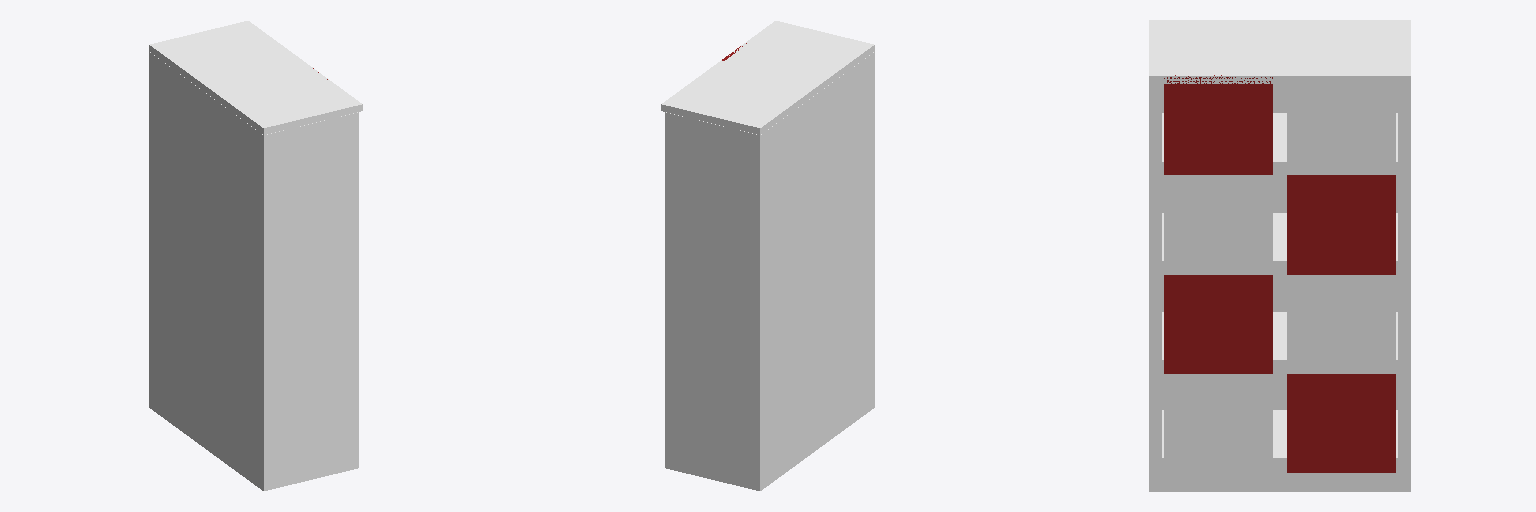
robot.urdf — multibox-shelf:
<?xml version="1.0"?>
<robot name="multibox-shelf"
       xmlns:xi="http://www.w3.org/2001/XInclude"
       xmlns:gazebo="http://playerstage.sourceforge.net/gazebo/xmlschema/#gz"
       xmlns:model="http://playerstage.sourceforge.net/gazebo/xmlschema/#model"
       xmlns:sensor="http://playerstage.sourceforge.net/gazebo/xmlschema/#sensor"
       xmlns:body="http://playerstage.sourceforge.net/gazebo/xmlschema/#body"
       xmlns:geom="http://playerstage.sourceforge.net/gazebo/xmlschema/#geom"
       xmlns:joint="http://playerstage.sourceforge.net/gazebo/xmlschema/#joint"
       xmlns:interface="http://playerstage.sourceforge.net/gazebo/xmlschema/#interface"
       xmlns:rendering="http://playerstage.sourceforge.net/gazebo/xmlschema/#rendering"
       xmlns:renderable="http://playerstage.sourceforge.net/gazebo/xmlschema/#renderable"
       xmlns:controller="http://playerstage.sourceforge.net/gazebo/xmlschema/#controller"
       xmlns:physics="http://playerstage.sourceforge.net/gazebo/xmlschema/#physics">
  <gazebo>
    <static>false</static>
  </gazebo>
  <link name="ROOT_link">
    <visual>
      <origin xyz="0 0 0" rpy="0 -0 0"/>
      <geometry>
        <mesh filename="model://multibox-shelf/meshes/ROOT_link_mesh.dae" scale="1 1 1" />
      </geometry>
    </visual>
    <collision>
      <origin xyz="0 0 0" rpy="0 -0 0"/>
      <geometry>
        <mesh filename="model://multibox-shelf/meshes/ROOT_link_mesh.dae" scale="1 1 1" />
      </geometry>
    </collision>
    <inertial>
      <mass value="0.001" />
      <origin xyz="0 0 0" rpy="0 -0 0"/>
      <inertia ixx="1e-09" ixy="0" ixz="0" iyy="1e-09" iyz="0" izz="1e-09"/>
    </inertial>
  </link>
  <gazebo reference="ROOT_link">
    <mu1>0.9</mu1>
    <mu2>0.9</mu2>
  </gazebo>
  <link name="MULTIBOX-SHELF-BODYSET9_link">
    <visual>
      <origin xyz="0 -0.14 0.17" rpy="0 -0 0"/>
      <geometry>
        <mesh filename="model://multibox-shelf/meshes/MULTIBOX-SHELF-BODYSET9_link_mesh.dae" scale="1 1 1" />
      </geometry>
    </visual>
    <collision>
      <origin xyz="0 -0.14 0.17" rpy="0 -0 0"/>
      <geometry>
        <mesh filename="model://multibox-shelf/meshes/MULTIBOX-SHELF-BODYSET9_link_mesh.dae" scale="1 1 1" />
      </geometry>
    </collision>
    <inertial>
      <mass value="0.001" />
      <origin xyz="0 0 0" rpy="0 -0 0"/>
      <inertia ixx="1e-09" ixy="0" ixz="0" iyy="1e-09" iyz="0" izz="1e-09"/>
    </inertial>
  </link>
  <gazebo reference="MULTIBOX-SHELF-BODYSET9_link">
    <mu1>0.9</mu1>
    <mu2>0.9</mu2>
  </gazebo>
  <link name="MULTIBOX-SHELF-BODYSET8_link">
    <visual>
      <origin xyz="0 -0.14 0.42" rpy="0 -0 0"/>
      <geometry>
        <mesh filename="model://multibox-shelf/meshes/MULTIBOX-SHELF-BODYSET8_link_mesh.dae" scale="1 1 1" />
      </geometry>
    </visual>
    <collision>
      <origin xyz="0 -0.14 0.42" rpy="0 -0 0"/>
      <geometry>
        <mesh filename="model://multibox-shelf/meshes/MULTIBOX-SHELF-BODYSET8_link_mesh.dae" scale="1 1 1" />
      </geometry>
    </collision>
    <inertial>
      <mass value="0.001" />
      <origin xyz="0 0 0" rpy="0 -0 0"/>
      <inertia ixx="1e-09" ixy="0" ixz="0" iyy="1e-09" iyz="0" izz="1e-09"/>
    </inertial>
  </link>
  <gazebo reference="MULTIBOX-SHELF-BODYSET8_link">
    <mu1>0.9</mu1>
    <mu2>0.9</mu2>
  </gazebo>
  <link name="MULTIBOX-SHELF-BODYSET7_link">
    <visual>
      <origin xyz="0 -0.14 0.67" rpy="0 -0 0"/>
      <geometry>
        <mesh filename="model://multibox-shelf/meshes/MULTIBOX-SHELF-BODYSET7_link_mesh.dae" scale="1 1 1" />
      </geometry>
    </visual>
    <collision>
      <origin xyz="0 -0.14 0.67" rpy="0 -0 0"/>
      <geometry>
        <mesh filename="model://multibox-shelf/meshes/MULTIBOX-SHELF-BODYSET7_link_mesh.dae" scale="1 1 1" />
      </geometry>
    </collision>
    <inertial>
      <mass value="0.001" />
      <origin xyz="0 0 0" rpy="0 -0 0"/>
      <inertia ixx="1e-09" ixy="0" ixz="0" iyy="1e-09" iyz="0" izz="1e-09"/>
    </inertial>
  </link>
  <gazebo reference="MULTIBOX-SHELF-BODYSET7_link">
    <mu1>0.9</mu1>
    <mu2>0.9</mu2>
  </gazebo>
  <link name="MULTIBOX-SHELF-BODYSET6_link">
    <visual>
      <origin xyz="0 -0.14 0.92" rpy="0 -0 0"/>
      <geometry>
        <mesh filename="model://multibox-shelf/meshes/MULTIBOX-SHELF-BODYSET6_link_mesh.dae" scale="1 1 1" />
      </geometry>
    </visual>
    <collision>
      <origin xyz="0 -0.14 0.92" rpy="0 -0 0"/>
      <geometry>
        <mesh filename="model://multibox-shelf/meshes/MULTIBOX-SHELF-BODYSET6_link_mesh.dae" scale="1 1 1" />
      </geometry>
    </collision>
    <inertial>
      <mass value="0.001" />
      <origin xyz="0 0 0" rpy="0 -0 0"/>
      <inertia ixx="1e-09" ixy="0" ixz="0" iyy="1e-09" iyz="0" izz="1e-09"/>
    </inertial>
  </link>
  <gazebo reference="MULTIBOX-SHELF-BODYSET6_link">
    <mu1>0.9</mu1>
    <mu2>0.9</mu2>
  </gazebo>
  <link name="MULTIBOX-SHELF-BODYSET5_link">
    <visual>
      <origin xyz="0 0.14 0.17" rpy="0 -0 0"/>
      <geometry>
        <mesh filename="model://multibox-shelf/meshes/MULTIBOX-SHELF-BODYSET5_link_mesh.dae" scale="1 1 1" />
      </geometry>
    </visual>
    <collision>
      <origin xyz="0 0.14 0.17" rpy="0 -0 0"/>
      <geometry>
        <mesh filename="model://multibox-shelf/meshes/MULTIBOX-SHELF-BODYSET5_link_mesh.dae" scale="1 1 1" />
      </geometry>
    </collision>
    <inertial>
      <mass value="0.001" />
      <origin xyz="0 0 0" rpy="0 -0 0"/>
      <inertia ixx="1e-09" ixy="0" ixz="0" iyy="1e-09" iyz="0" izz="1e-09"/>
    </inertial>
  </link>
  <gazebo reference="MULTIBOX-SHELF-BODYSET5_link">
    <mu1>0.9</mu1>
    <mu2>0.9</mu2>
  </gazebo>
  <link name="MULTIBOX-SHELF-BODYSET4_link">
    <visual>
      <origin xyz="0 0.14 0.42" rpy="0 -0 0"/>
      <geometry>
        <mesh filename="model://multibox-shelf/meshes/MULTIBOX-SHELF-BODYSET4_link_mesh.dae" scale="1 1 1" />
      </geometry>
    </visual>
    <collision>
      <origin xyz="0 0.14 0.42" rpy="0 -0 0"/>
      <geometry>
        <mesh filename="model://multibox-shelf/meshes/MULTIBOX-SHELF-BODYSET4_link_mesh.dae" scale="1 1 1" />
      </geometry>
    </collision>
    <inertial>
      <mass value="0.001" />
      <origin xyz="0 0 0" rpy="0 -0 0"/>
      <inertia ixx="1e-09" ixy="0" ixz="0" iyy="1e-09" iyz="0" izz="1e-09"/>
    </inertial>
  </link>
  <gazebo reference="MULTIBOX-SHELF-BODYSET4_link">
    <mu1>0.9</mu1>
    <mu2>0.9</mu2>
  </gazebo>
  <link name="MULTIBOX-SHELF-BODYSET3_link">
    <visual>
      <origin xyz="0 0.14 0.67" rpy="0 -0 0"/>
      <geometry>
        <mesh filename="model://multibox-shelf/meshes/MULTIBOX-SHELF-BODYSET3_link_mesh.dae" scale="1 1 1" />
      </geometry>
    </visual>
    <collision>
      <origin xyz="0 0.14 0.67" rpy="0 -0 0"/>
      <geometry>
        <mesh filename="model://multibox-shelf/meshes/MULTIBOX-SHELF-BODYSET3_link_mesh.dae" scale="1 1 1" />
      </geometry>
    </collision>
    <inertial>
      <mass value="0.001" />
      <origin xyz="0 0 0" rpy="0 -0 0"/>
      <inertia ixx="1e-09" ixy="0" ixz="0" iyy="1e-09" iyz="0" izz="1e-09"/>
    </inertial>
  </link>
  <gazebo reference="MULTIBOX-SHELF-BODYSET3_link">
    <mu1>0.9</mu1>
    <mu2>0.9</mu2>
  </gazebo>
  <link name="MULTIBOX-SHELF-BODYSET2_link">
    <visual>
      <origin xyz="0 0.14 0.92" rpy="0 -0 0"/>
      <geometry>
        <mesh filename="model://multibox-shelf/meshes/MULTIBOX-SHELF-BODYSET2_link_mesh.dae" scale="1 1 1" />
      </geometry>
    </visual>
    <collision>
      <origin xyz="0 0.14 0.92" rpy="0 -0 0"/>
      <geometry>
        <mesh filename="model://multibox-shelf/meshes/MULTIBOX-SHELF-BODYSET2_link_mesh.dae" scale="1 1 1" />
      </geometry>
    </collision>
    <inertial>
      <mass value="0.001" />
      <origin xyz="0 0 0" rpy="0 -0 0"/>
      <inertia ixx="1e-09" ixy="0" ixz="0" iyy="1e-09" iyz="0" izz="1e-09"/>
    </inertial>
  </link>
  <gazebo reference="MULTIBOX-SHELF-BODYSET2_link">
    <mu1>0.9</mu1>
    <mu2>0.9</mu2>
  </gazebo>
  <joint name="DRAWER0" type="prismatic">
    <parent link="ROOT_link"/>
    <child  link="MULTIBOX-SHELF-BODYSET9_link"/>
    <origin xyz="0 -0.14 0.17" rpy="0 -0 0 "/>
    <axis   xyz="1 0 0"/>
    <limit lower="0" upper="0.3" effort="100" velocity="0.01" />
    <dynamics damping="0.2" friction="0" />
  </joint>
  <transmission type="pr2_mechanism_model/SimpleTransmission" name="DRAWER0_trans" >
    <actuator name="DRAWER0_motor" />
    <joint name="DRAWER0" />
    <mechanicalReduction>1</mechanicalReduction>
  </transmission>
  <gazebo reference="DRAWER0">
    <cfmDamping>0.4</cfmDamping>
  </gazebo>
  <joint name="DRAWER1" type="prismatic">
    <parent link="ROOT_link"/>
    <child  link="MULTIBOX-SHELF-BODYSET8_link"/>
    <origin xyz="0 -0.14 0.42" rpy="0 -0 0 "/>
    <axis   xyz="1 0 0"/>
    <limit lower="0" upper="0.3" effort="100" velocity="0.01" />
    <dynamics damping="0.2" friction="0" />
  </joint>
  <transmission type="pr2_mechanism_model/SimpleTransmission" name="DRAWER1_trans" >
    <actuator name="DRAWER1_motor" />
    <joint name="DRAWER1" />
    <mechanicalReduction>1</mechanicalReduction>
  </transmission>
  <gazebo reference="DRAWER1">
    <cfmDamping>0.4</cfmDamping>
  </gazebo>
  <joint name="DRAWER2" type="prismatic">
    <parent link="ROOT_link"/>
    <child  link="MULTIBOX-SHELF-BODYSET7_link"/>
    <origin xyz="0 -0.14 0.67" rpy="0 -0 0 "/>
    <axis   xyz="1 0 0"/>
    <limit lower="0" upper="0.3" effort="100" velocity="0.01" />
    <dynamics damping="0.2" friction="0" />
  </joint>
  <transmission type="pr2_mechanism_model/SimpleTransmission" name="DRAWER2_trans" >
    <actuator name="DRAWER2_motor" />
    <joint name="DRAWER2" />
    <mechanicalReduction>1</mechanicalReduction>
  </transmission>
  <gazebo reference="DRAWER2">
    <cfmDamping>0.4</cfmDamping>
  </gazebo>
  <joint name="DRAWER3" type="prismatic">
    <parent link="ROOT_link"/>
    <child  link="MULTIBOX-SHELF-BODYSET6_link"/>
    <origin xyz="0 -0.14 0.92" rpy="0 -0 0 "/>
    <axis   xyz="1 0 0"/>
    <limit lower="0" upper="0.3" effort="100" velocity="0.01" />
    <dynamics damping="0.2" friction="0" />
  </joint>
  <transmission type="pr2_mechanism_model/SimpleTransmission" name="DRAWER3_trans" >
    <actuator name="DRAWER3_motor" />
    <joint name="DRAWER3" />
    <mechanicalReduction>1</mechanicalReduction>
  </transmission>
  <gazebo reference="DRAWER3">
    <cfmDamping>0.4</cfmDamping>
  </gazebo>
  <joint name="DRAWER4" type="prismatic">
    <parent link="ROOT_link"/>
    <child  link="MULTIBOX-SHELF-BODYSET5_link"/>
    <origin xyz="0 0.14 0.17" rpy="0 -0 0 "/>
    <axis   xyz="1 0 0"/>
    <limit lower="0" upper="0.3" effort="100" velocity="0.01" />
    <dynamics damping="0.2" friction="0" />
  </joint>
  <transmission type="pr2_mechanism_model/SimpleTransmission" name="DRAWER4_trans" >
    <actuator name="DRAWER4_motor" />
    <joint name="DRAWER4" />
    <mechanicalReduction>1</mechanicalReduction>
  </transmission>
  <gazebo reference="DRAWER4">
    <cfmDamping>0.4</cfmDamping>
  </gazebo>
  <joint name="DRAWER5" type="prismatic">
    <parent link="ROOT_link"/>
    <child  link="MULTIBOX-SHELF-BODYSET4_link"/>
    <origin xyz="0 0.14 0.42" rpy="0 -0 0 "/>
    <axis   xyz="1 0 0"/>
    <limit lower="0" upper="0.3" effort="100" velocity="0.01" />
    <dynamics damping="0.2" friction="0" />
  </joint>
  <transmission type="pr2_mechanism_model/SimpleTransmission" name="DRAWER5_trans" >
    <actuator name="DRAWER5_motor" />
    <joint name="DRAWER5" />
    <mechanicalReduction>1</mechanicalReduction>
  </transmission>
  <gazebo reference="DRAWER5">
    <cfmDamping>0.4</cfmDamping>
  </gazebo>
  <joint name="DRAWER6" type="prismatic">
    <parent link="ROOT_link"/>
    <child  link="MULTIBOX-SHELF-BODYSET3_link"/>
    <origin xyz="0 0.14 0.67" rpy="0 -0 0 "/>
    <axis   xyz="1 0 0"/>
    <limit lower="0" upper="0.3" effort="100" velocity="0.01" />
    <dynamics damping="0.2" friction="0" />
  </joint>
  <transmission type="pr2_mechanism_model/SimpleTransmission" name="DRAWER6_trans" >
    <actuator name="DRAWER6_motor" />
    <joint name="DRAWER6" />
    <mechanicalReduction>1</mechanicalReduction>
  </transmission>
  <gazebo reference="DRAWER6">
    <cfmDamping>0.4</cfmDamping>
  </gazebo>
  <joint name="DRAWER7" type="prismatic">
    <parent link="ROOT_link"/>
    <child  link="MULTIBOX-SHELF-BODYSET2_link"/>
    <origin xyz="0 0.14 0.92" rpy="0 -0 0 "/>
    <axis   xyz="1 0 0"/>
    <limit lower="0" upper="0.3" effort="100" velocity="0.01" />
    <dynamics damping="0.2" friction="0" />
  </joint>
  <transmission type="pr2_mechanism_model/SimpleTransmission" name="DRAWER7_trans" >
    <actuator name="DRAWER7_motor" />
    <joint name="DRAWER7" />
    <mechanicalReduction>1</mechanicalReduction>
  </transmission>
  <gazebo reference="DRAWER7">
    <cfmDamping>0.4</cfmDamping>
  </gazebo>
</robot>

--- Render facts (derived) ---
The picture shows the robot from 3 angles, left to right: view 1: azimuth 30°, elevation 25°; view 2: azimuth 150°, elevation 25°; view 3: azimuth 270°, elevation 25°; orthographic projection.
Model multibox-shelf with 9 links and 8 joints (8 prismatic), rooted at ROOT_link, posed every joint at zero.
Links seen in each view (by area): view 1: ROOT_link; view 2: ROOT_link; view 3: ROOT_link, MULTIBOX-SHELF-BODYSET7_link, MULTIBOX-SHELF-BODYSET3_link, MULTIBOX-SHELF-BODYSET9_link, MULTIBOX-SHELF-BODYSET8_link, MULTIBOX-SHELF-BODYSET5_link, MULTIBOX-SHELF-BODYSET4_link, MULTIBOX-SHELF-BODYSET6_link, MULTIBOX-SHELF-BODYSET2_link.
Link boxes in pixels (<box>): ROOT_link: <box>149,21,362,490</box>; ROOT_link: <box>661,21,874,490</box>; ROOT_link: <box>1149,20,1410,491</box>; MULTIBOX-SHELF-BODYSET7_link: <box>1164,175,1272,274</box>; MULTIBOX-SHELF-BODYSET3_link: <box>1287,175,1395,274</box>; MULTIBOX-SHELF-BODYSET9_link: <box>1164,374,1272,472</box>; MULTIBOX-SHELF-BODYSET8_link: <box>1164,275,1272,373</box>; MULTIBOX-SHELF-BODYSET5_link: <box>1287,374,1395,472</box>; MULTIBOX-SHELF-BODYSET4_link: <box>1287,275,1395,373</box>; MULTIBOX-SHELF-BODYSET6_link: <box>1164,75,1272,174</box>; MULTIBOX-SHELF-BODYSET2_link: <box>1287,75,1395,174</box>.
Bounding box of the posed robot: 0.3 × 0.6 × 1.05 m (x, y, z).
Meshes: 9 distinct files referenced, 9 mesh visuals loaded (9 Collada DAE).
